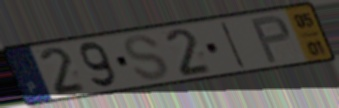2: (165, 27, 216, 79), (39, 46, 90, 98)
9: (80, 40, 118, 89)
I: (219, 19, 249, 71)
P: (248, 13, 293, 66)
S: (121, 33, 171, 82)
